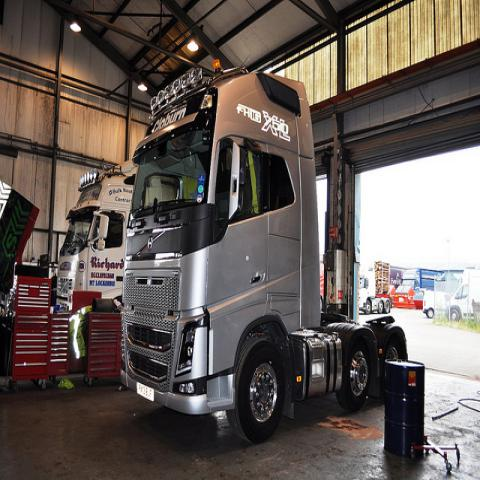truck: (118, 64, 410, 442), (55, 171, 128, 305), (356, 262, 414, 311), (446, 281, 480, 322)
